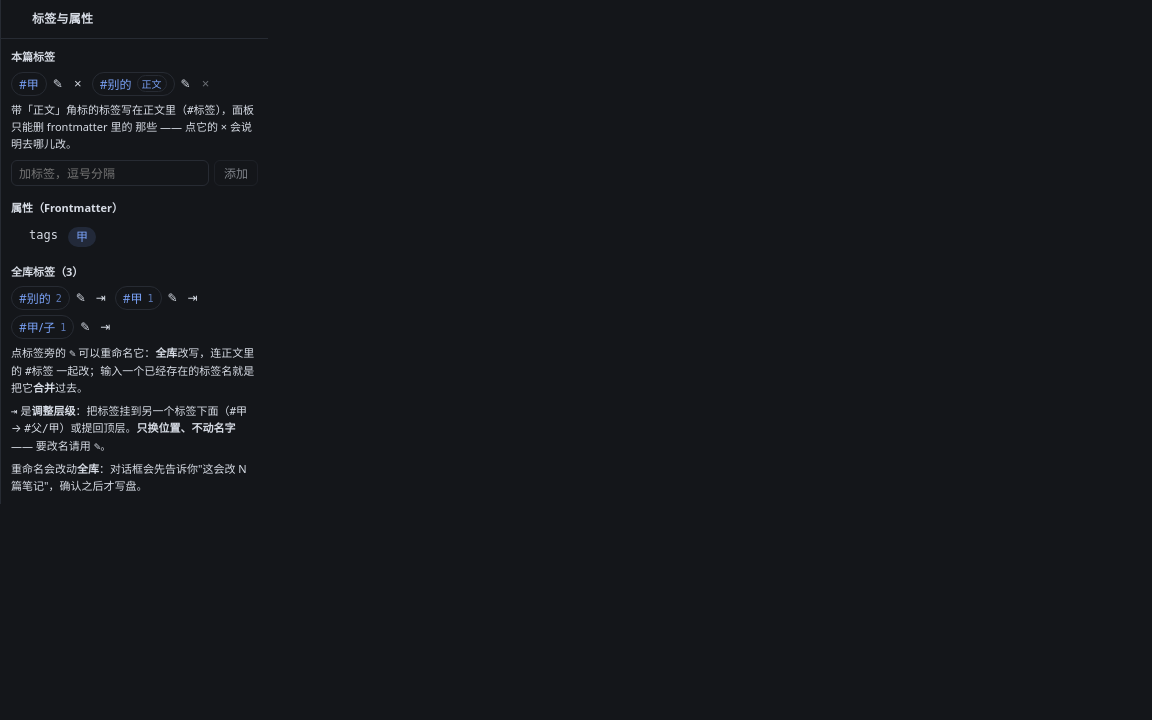
入口与初值 › 全库概览里有「移到…」入口；点开只是对话框，磁盘一个字都没动
This screenshot has width=1152, height=720.
Check: the button "#甲" is shown, box [11,72,47,96]
Check: the 1st button "⇥" is shown, box [92,289,110,307]
What coordinates should you click on to do the following:
click the 2nd button "⇥"
I would click on:
 (193, 298)
Its box is [184,289,202,307].
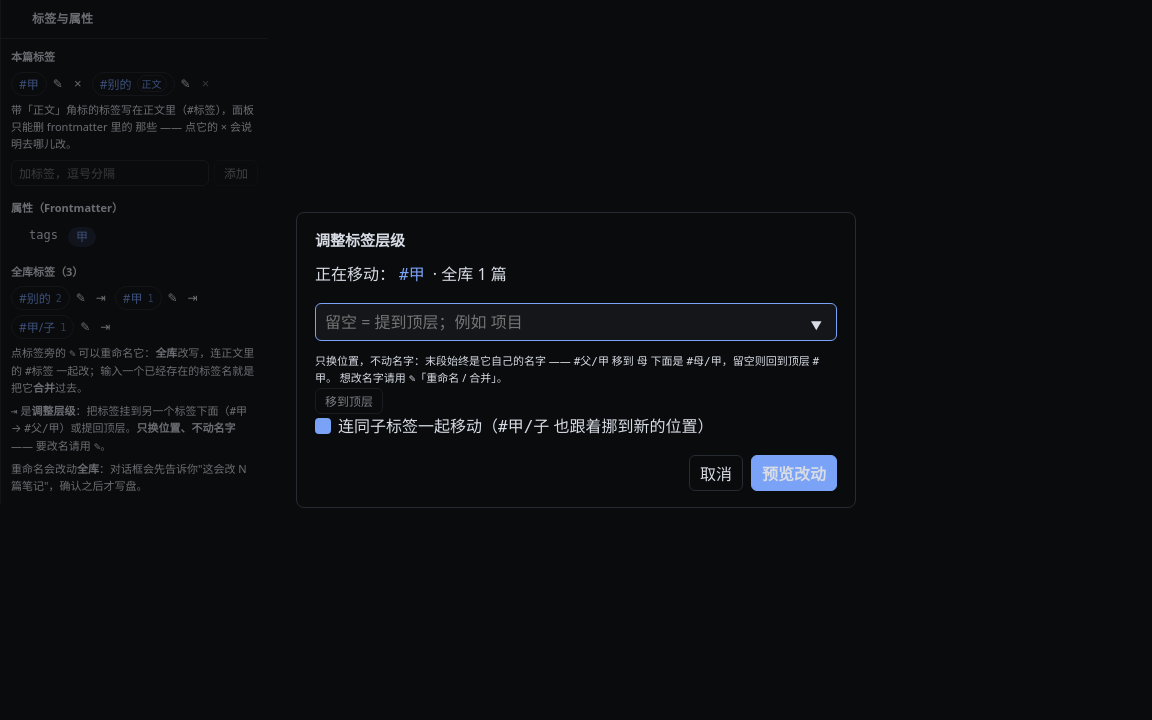
Check: the element that starts with "调整标签层级" is shown
Check: the field with placeholder "留空 = 提到顶层；例如 项目" is empty, box [315,303,837,341]
Check: the element that starts with "只换位置，不动名字：末段始终是它自己的名字 ——" is shown, box [315,353,574,368]
